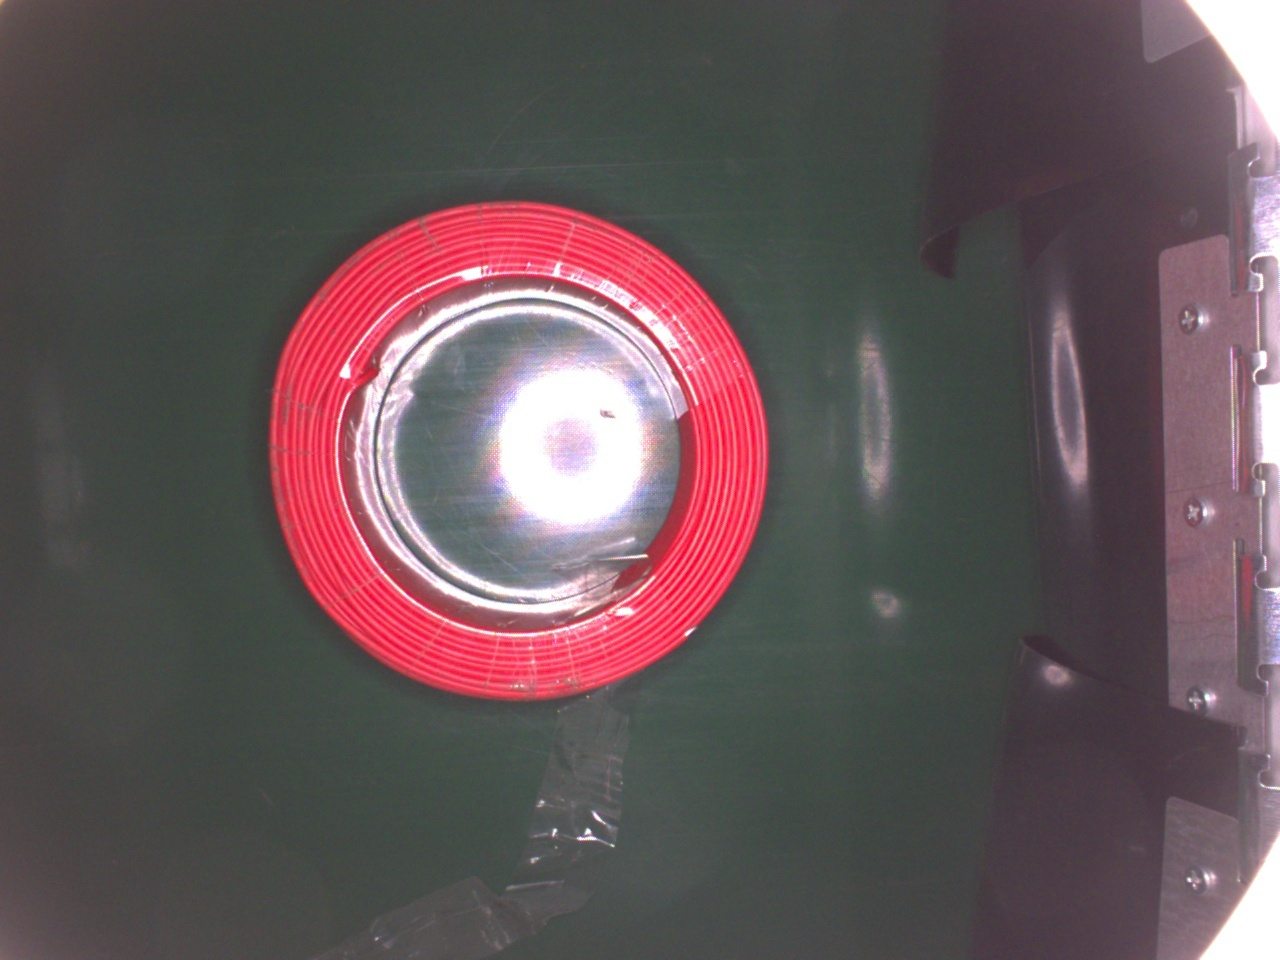red: (268, 194, 769, 705)
